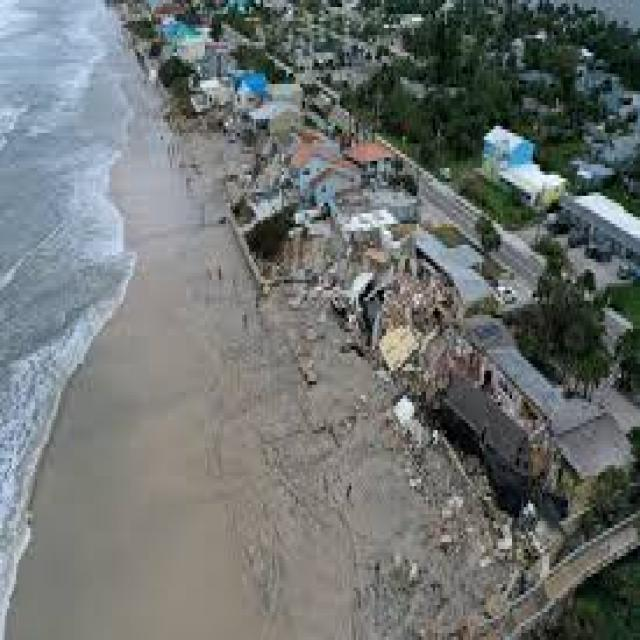Hurricane: (104, 54, 576, 611)
